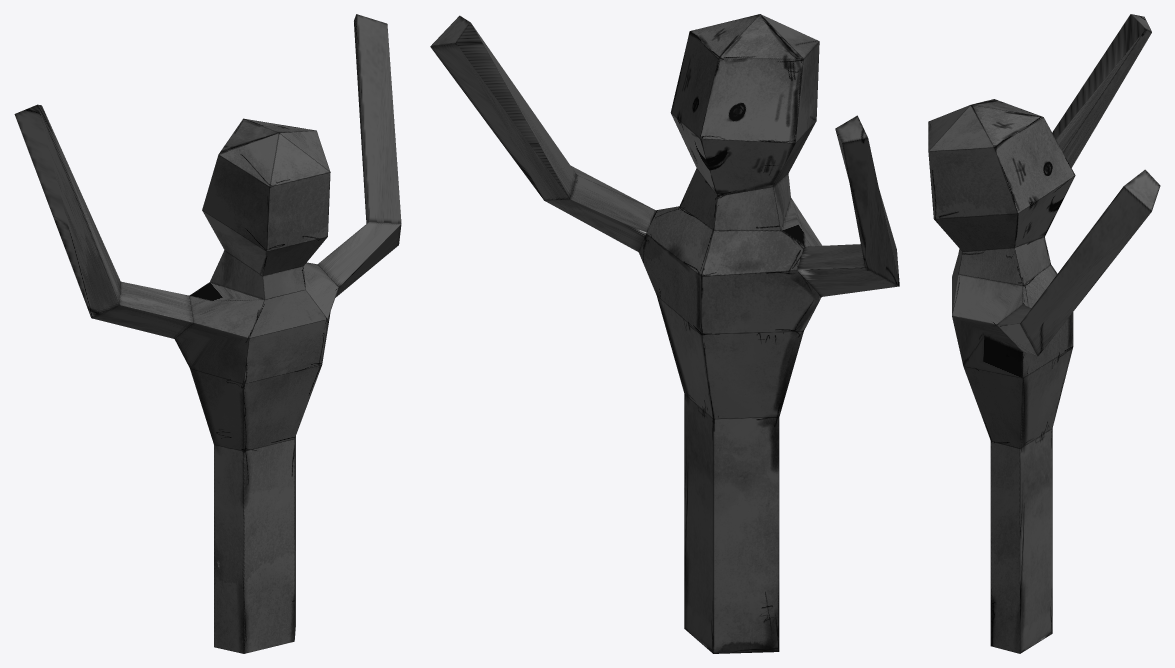
File: bonhome.fbx
The picture shows the model from 3 angles, left to right: view 1: azimuth 30°, elevation 25°; view 2: azimuth 150°, elevation 25°; view 3: azimuth 270°, elevation 25°; orthographic projection. The views are drawn at different scales.
Parts seen in each view (by area): view 1: Sphere; view 2: Sphere; view 3: Sphere.
Boxes of the visible parts, x1,y1,x2,y2 form: Sphere: (14,14,401,653); Sphere: (430,14,899,653); Sphere: (928,14,1160,653).
Bounding box in the file's own units: 512 × 704 × 272.
Materials: 1 (1 with a texture image).
